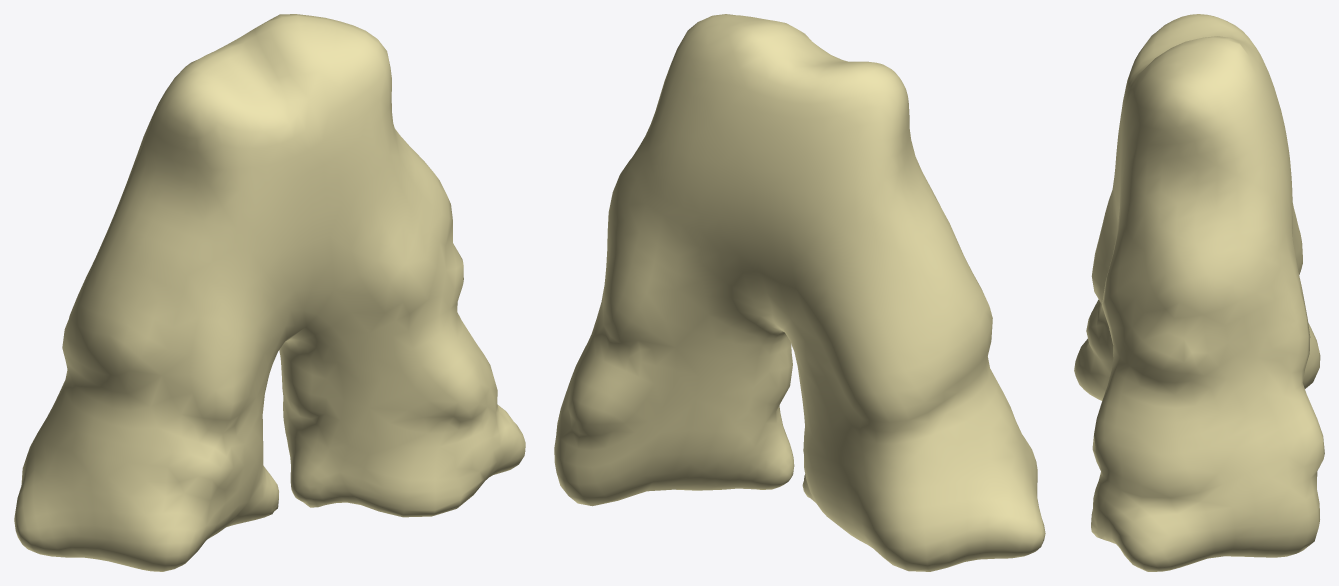
The model's file is new_bounceupenemy.fbx.
3 views of the same model, side by side, from view 1: azimuth 30°, elevation 25°; view 2: azimuth 150°, elevation 25°; view 3: azimuth 270°, elevation 25° (orthographic). The views are drawn at different scales.
Visible parts, largest first — view 1: outerjelly_low; view 2: outerjelly_low; view 3: outerjelly_low.
Part boxes in pixels (box(x1,y1,x2,y2)): outerjelly_low: box(14, 14, 525, 571); outerjelly_low: box(554, 14, 1045, 571); outerjelly_low: box(1074, 14, 1324, 571).
Bounding box in the file's own units: 1.44 × 1.37 × 0.6847.
